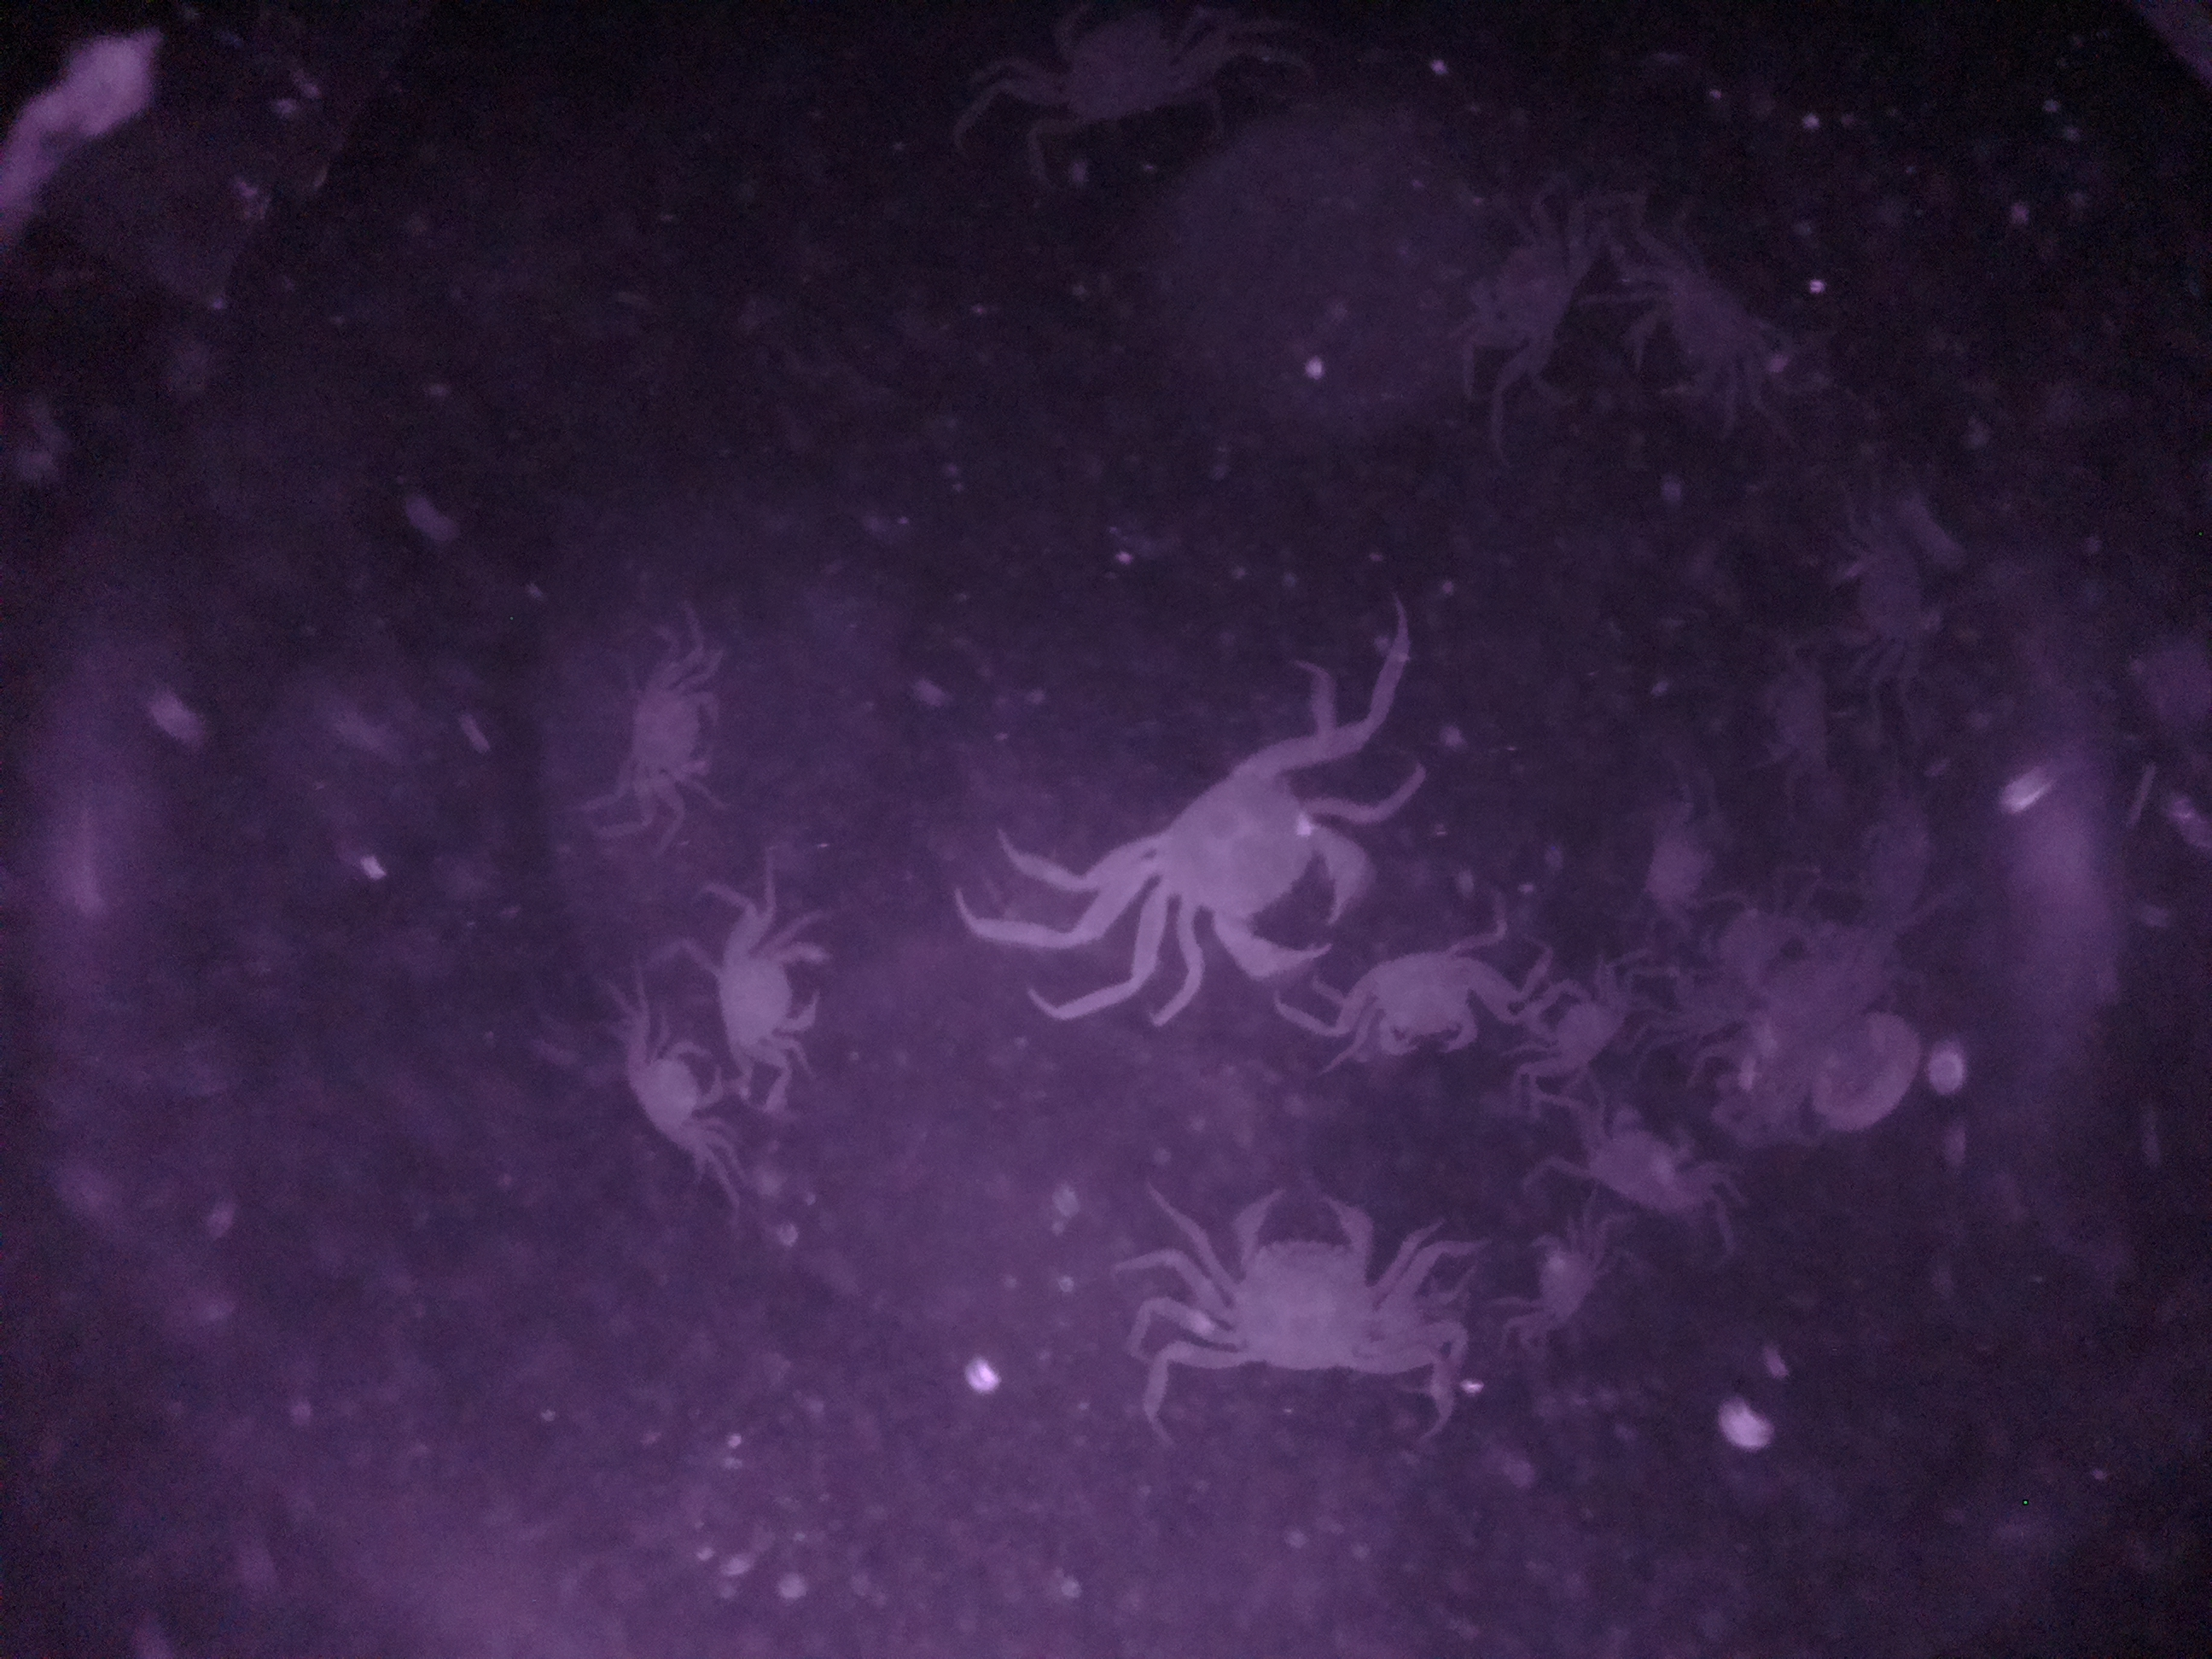Crab: (1111, 720, 1395, 1007), (1170, 1178, 1420, 1406), (1324, 903, 1536, 1072), (1449, 181, 1627, 383), (1620, 240, 1817, 415), (685, 908, 853, 1079), (1545, 1086, 1750, 1225), (608, 627, 732, 831), (625, 1019, 752, 1187), (1517, 953, 1635, 1096), (1505, 1211, 1611, 1352)
